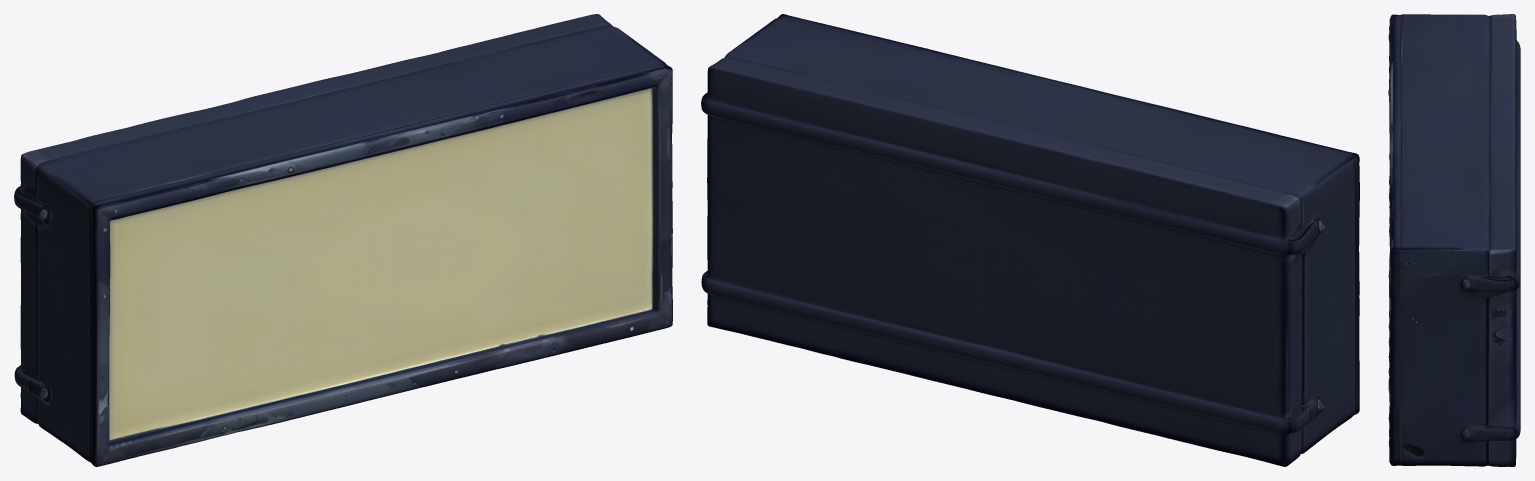
The model's file is horizontal_lightbox_3d_model.fbx.
The picture shows the model from 3 angles, left to right: view 1: azimuth 30°, elevation 25°; view 2: azimuth 150°, elevation 25°; view 3: azimuth 270°, elevation 25°; orthographic projection. The views are drawn at different scales.
Parts seen in each view (by area): view 1: tripo_node_33faff18; view 2: tripo_node_33faff18; view 3: tripo_node_33faff18.
Part boxes in pixels (bbox=[...]): tripo_node_33faff18: bbox=[14, 14, 672, 466]; tripo_node_33faff18: bbox=[701, 14, 1359, 466]; tripo_node_33faff18: bbox=[1388, 14, 1520, 466].
Size of the model in its own units: 0.9797 by 0.4109 by 0.2241.
